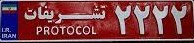character: (131, 1, 150, 37), (112, 3, 131, 37), (170, 1, 189, 35), (151, 3, 170, 36), (90, 24, 100, 37), (66, 23, 75, 36), (51, 25, 60, 36), (82, 25, 91, 36), (42, 24, 50, 36), (34, 25, 43, 35), (75, 25, 82, 37), (59, 25, 67, 35)
